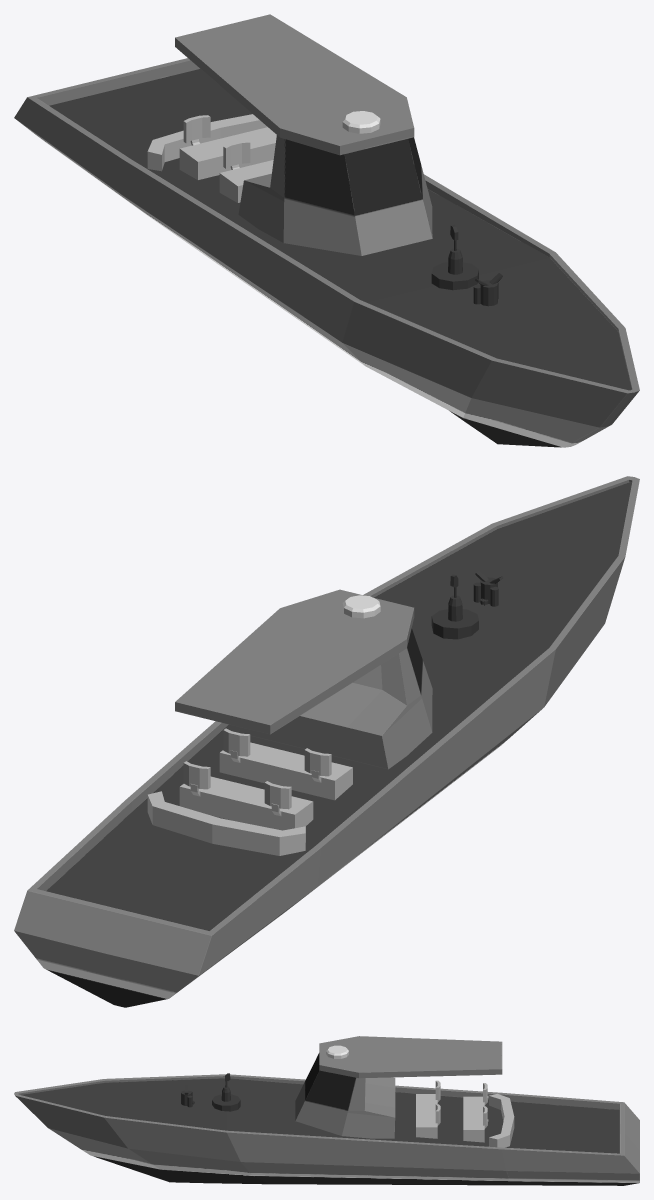
Rendered from S9_klein.fbx.
3 views of the same model, one above another, from view 1: azimuth 30°, elevation 25°; view 2: azimuth 150°, elevation 25°; view 3: azimuth 270°, elevation 25° (orthographic). The views are drawn at different scales.
Parts seen in each view (by area): view 1: Cube, Cylinder.001, Cylinder, Cylinder.003; view 2: Cube, Cylinder.001, Cylinder; view 3: Cube, Cylinder.001, Cylinder.
Part boxes in pixels (x1,y1,x2,y2): Cube: (14, 14, 639, 447); Cylinder.001: (431, 262, 478, 290); Cylinder: (342, 111, 380, 133); Cylinder.003: (473, 273, 502, 306); Cube: (14, 476, 639, 1007); Cylinder.001: (431, 609, 478, 639); Cylinder: (342, 595, 380, 618); Cube: (14, 1036, 639, 1185); Cylinder.001: (212, 1094, 240, 1111); Cylinder: (326, 1045, 348, 1058).
Size of the model in its own units: 0.0267 by 0.0287 by 0.1211.
3 materials, 1 textured.
